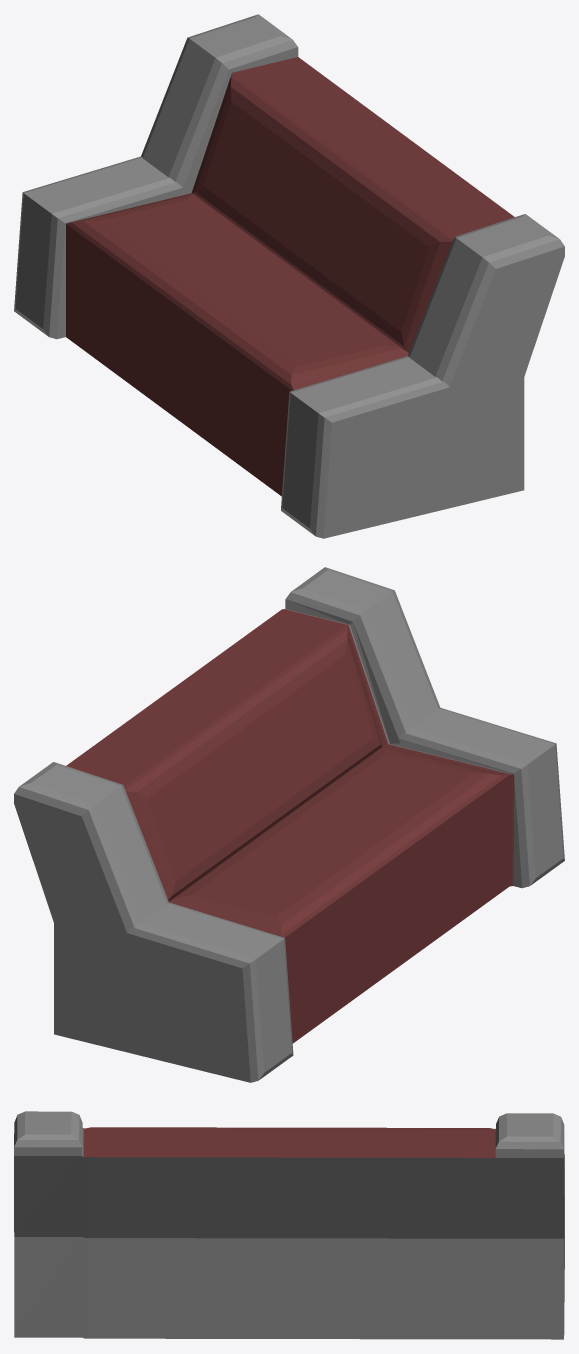
File: Commons_Double_01.fbx
3 views of the same model, one above another, from view 1: azimuth 30°, elevation 25°; view 2: azimuth 150°, elevation 25°; view 3: azimuth 270°, elevation 25° (orthographic). The views are drawn at different scales.
Parts seen in each view (by area): view 1: Commons; view 2: Commons; view 3: Commons.
Part boxes in pixels (left/top/right/bottom): Commons: left=14, top=14, right=564, bottom=538; Commons: left=14, top=567, right=564, bottom=1082; Commons: left=14, top=1111, right=564, bottom=1339.
Bounding box in the file's own units: 333 × 304 × 704.
